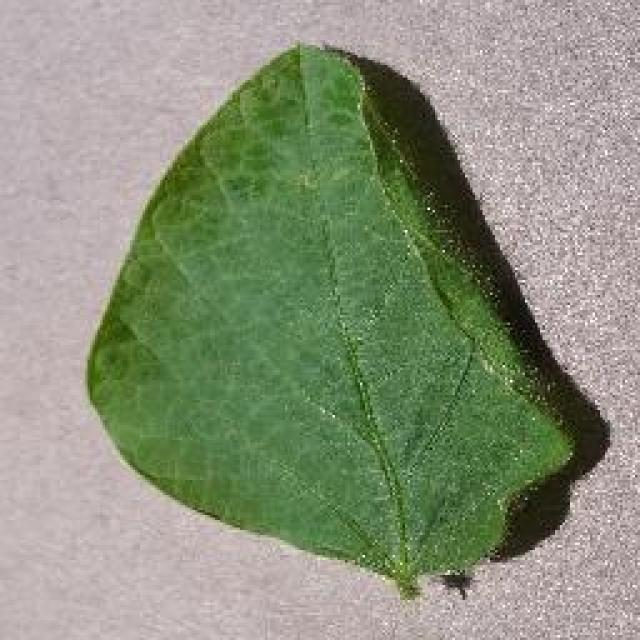Soy_healthy: (106, 84, 570, 537)
